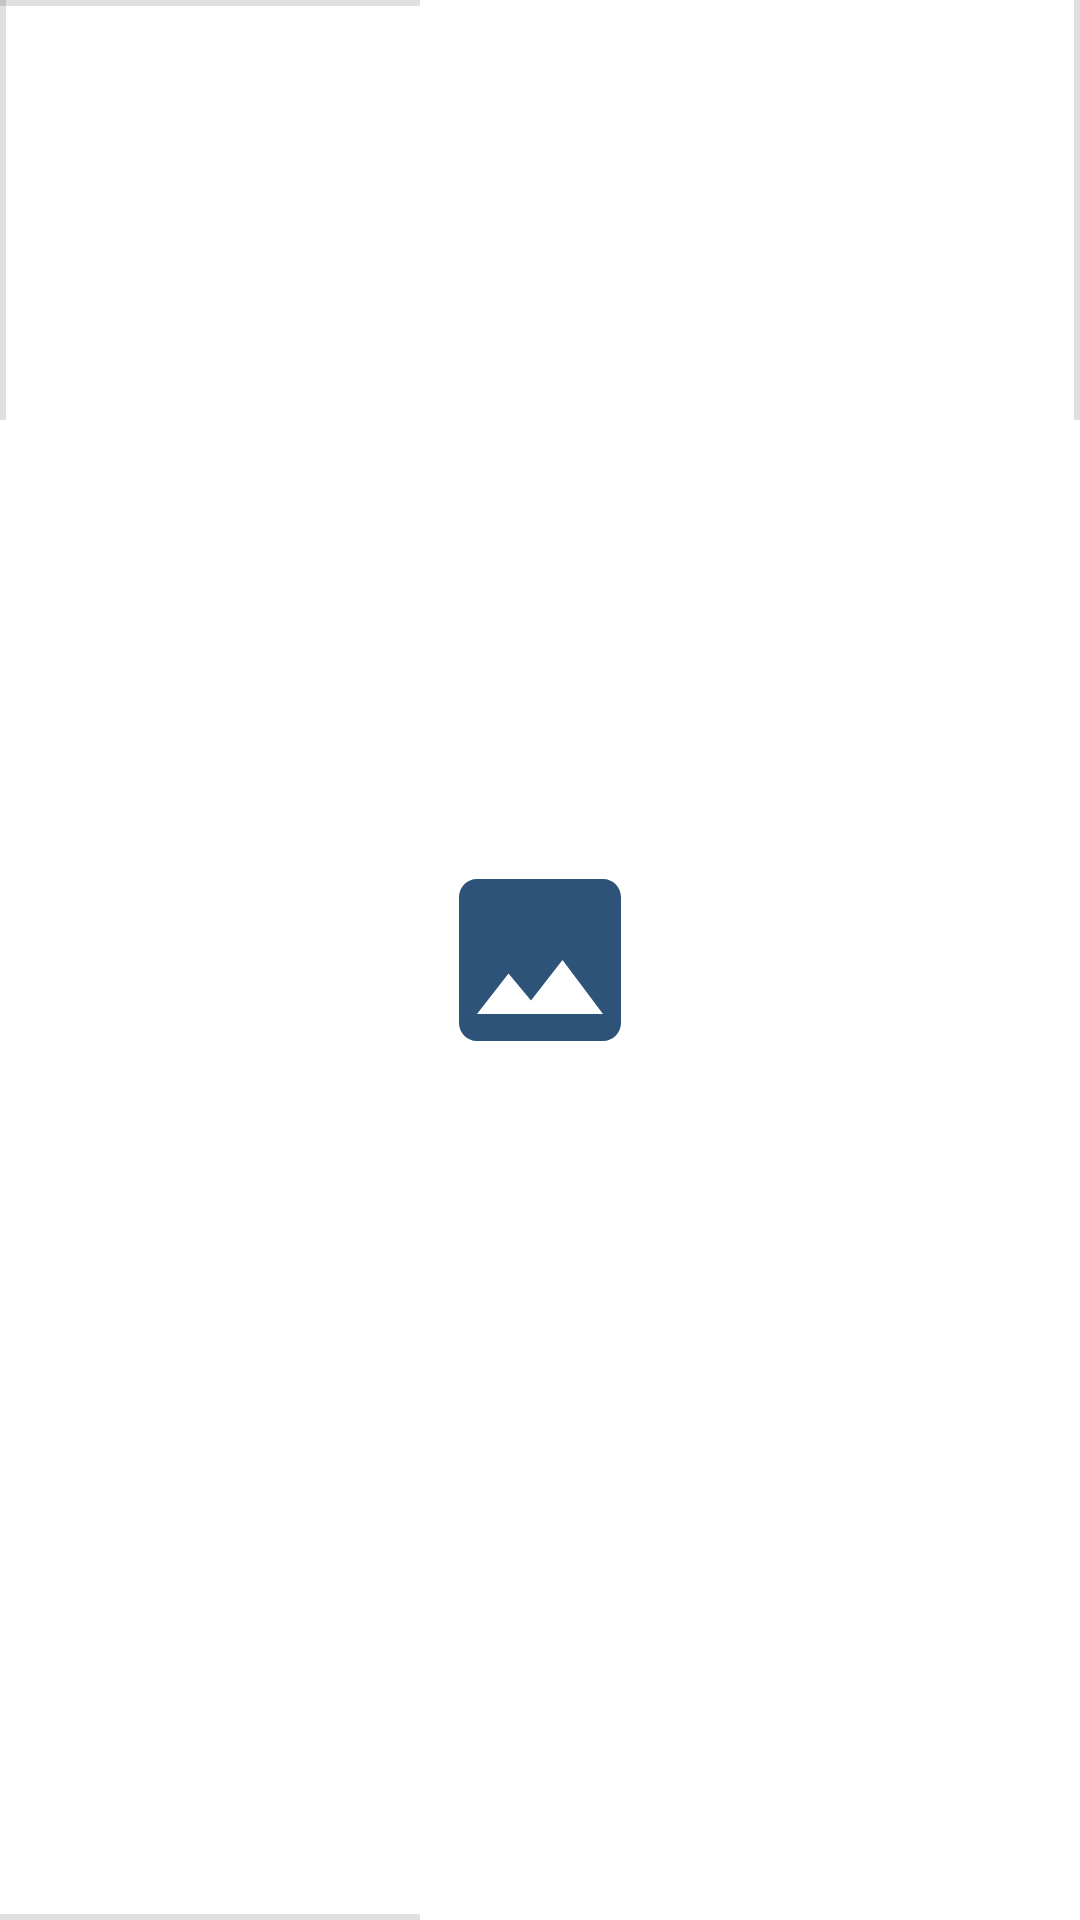

Point at icon controls on the screen. Image size 1080 × 1920, points as point (x, y).
base settings photo: point (540, 960)
